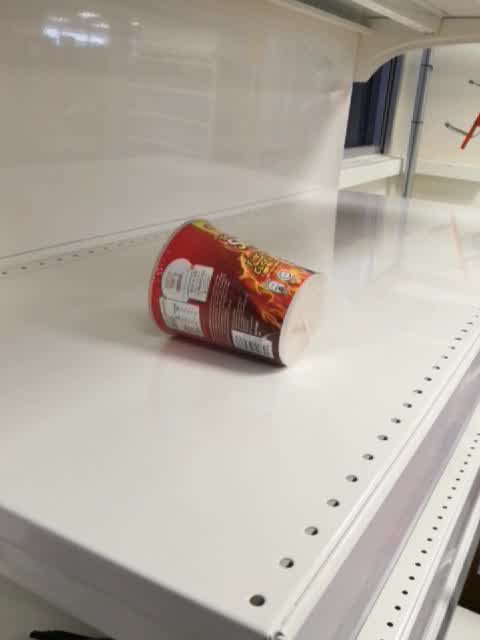maggi: (146, 219, 332, 372)
